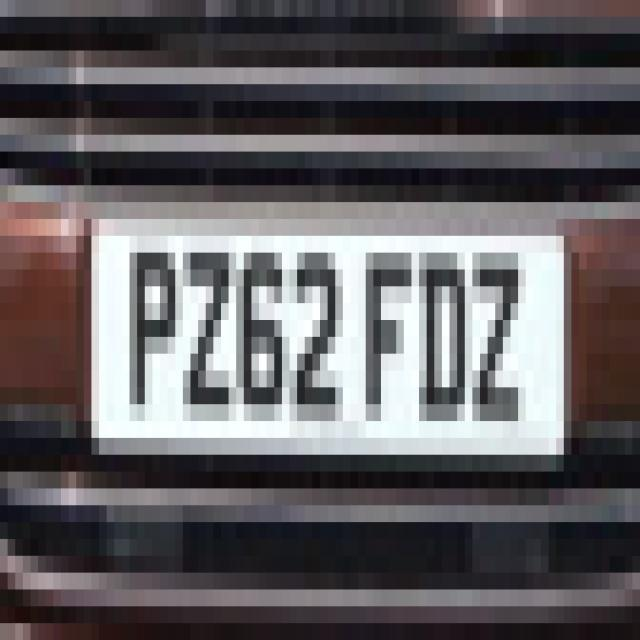6: (239, 231, 287, 432)
D: (414, 232, 468, 438)
F: (359, 226, 416, 432)
P: (124, 224, 178, 424)
Z: (470, 238, 534, 440), (182, 235, 232, 432)
